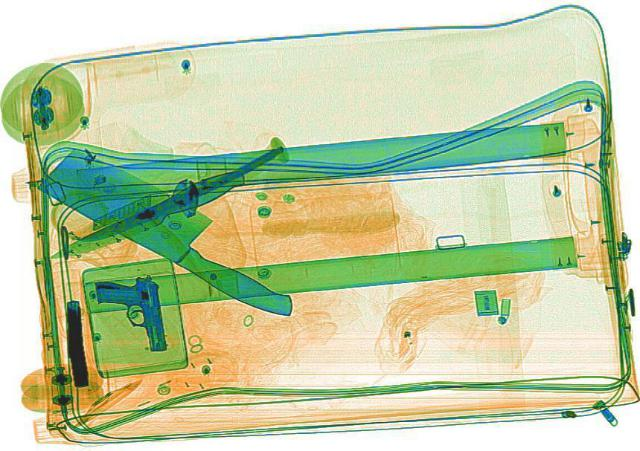Gun: (92, 273, 168, 354), (61, 300, 88, 386)
Knife: (18, 143, 334, 322), (41, 164, 253, 265), (78, 145, 288, 246)
